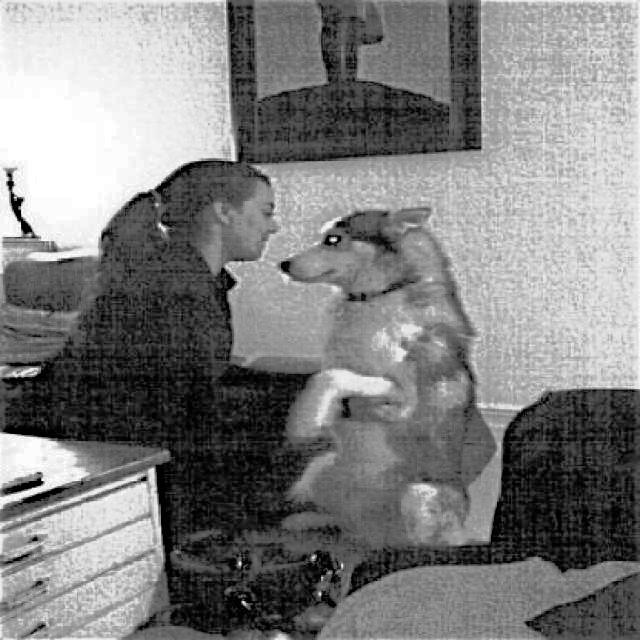Dog: (273, 200, 499, 545)
Person: (35, 157, 328, 430)
